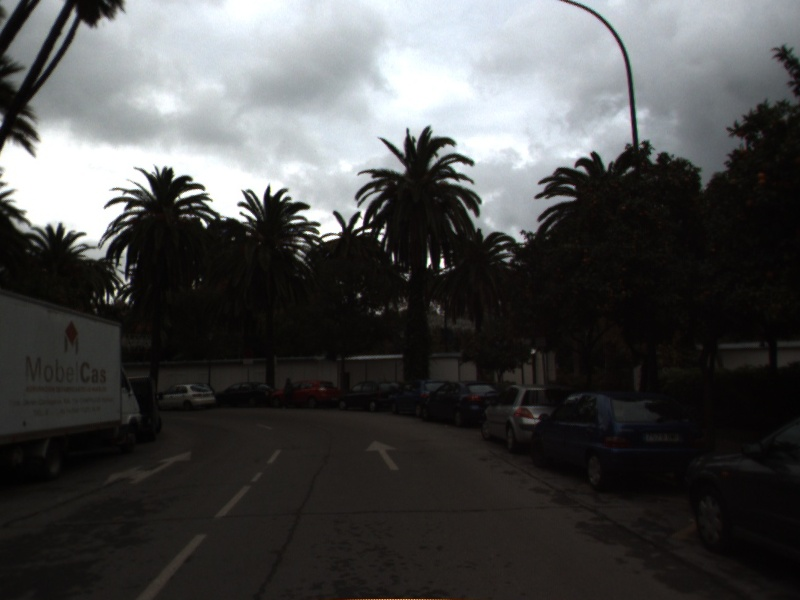STRAIGHT: (364, 438, 402, 472)
STRAIGHT_LEFT: (101, 449, 194, 488)
